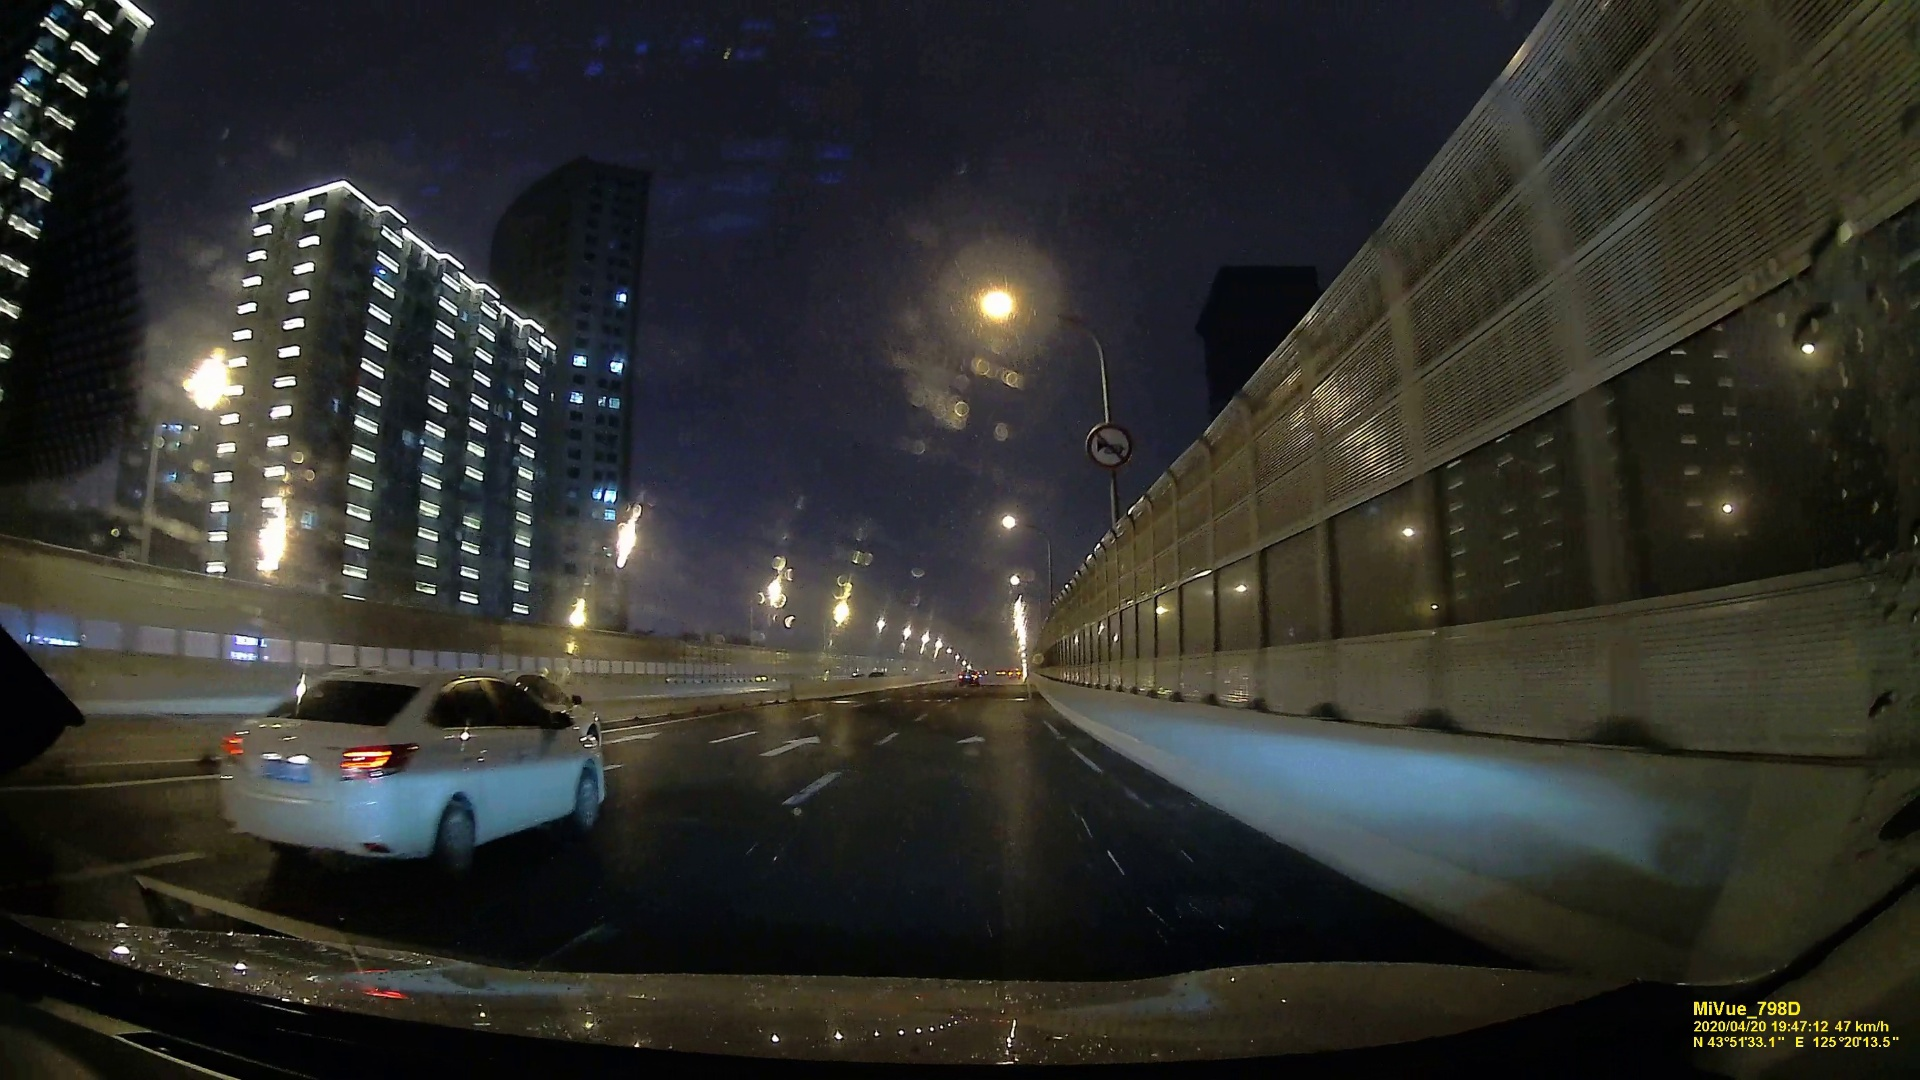traffic_sign: (1087, 419, 1133, 467)
vehicle: (218, 659, 615, 880), (957, 669, 982, 684)
